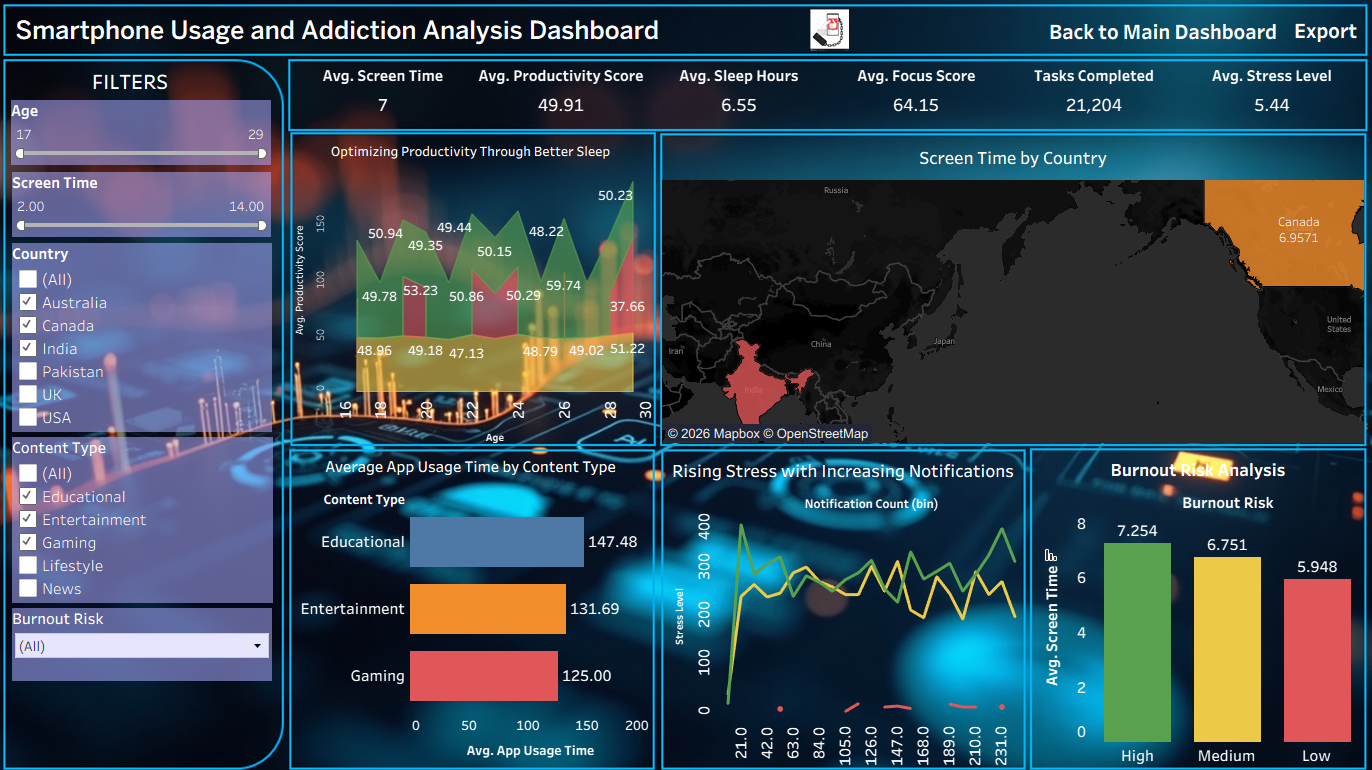

The dashboard page shown, as its layout file describes it:
{"tool":"tableau","page":{"name":"didgital_Addiction_and_productivity_dashboard (2)","canvas":[1400,800],"ordinal":1},"visuals":[{"type":"image","param":"Image/digital_addiction_bg.PNG","box":[8,8,1384,784]},{"type":"image","param":"Image/addiction.png","box":[818,21,52,42]},{"type":"dashboard-object","box":[1053,23,249,40]},{"type":"text","box":[26,27,651,30]},{"type":"worksheet","title":"KPI","mark":"Automatic","box":[308,77,1067,60]},{"type":"text","box":[94,78,100,30]},{"type":"filter","title":"Filters","param":"[federated.1l17ptl0z298e1154kmrq1arx611].[none:Age:qk]","box":[25,112,260,65]},{"type":"worksheet","title":"Optimizing Productivity Through Better Sleep","mark":"Area","rows":["Productivity Score"],"cols":["Age"],"box":[299,150,371,306]},{"type":"worksheet","title":"Screen Time by Country","mark":"Multipolygon","box":[676,153,702,302]},{"type":"filter","title":"Filters","param":"[federated.1l17ptl0z298e1154kmrq1arx611].[none:Screen Time:qk]","box":[26,184,259,65]},{"type":"filter","title":"Filters","param":"[federated.1l17ptl0z298e1154kmrq1arx611].[none:Country:nk]","box":[26,255,260,189]},{"type":"filter","title":"Filters","param":"[federated.1l17ptl0z298e1154kmrq1arx611].[none:Content Type:nk]","box":[26,449,261,166]},{"type":"worksheet","title":"Average App Usage Time by Content Type","mark":"Automatic","rows":["Content Type"],"cols":["App Usage Time"],"box":[304,464,361,314]},{"type":"worksheet","title":"Rising Stress with Increasing Notifications","mark":"Line","rows":["Stress Level"],"cols":["Notification Count (bin)"],"box":[679,466,356,313]},{"type":"worksheet","title":"Burnout Risk Analysis","mark":"Automatic","rows":["Screen Time"],"cols":["Burnout Risk"],"box":[1048,466,328,313]},{"type":"filter","title":"Filters","param":"[federated.1l17ptl0z298e1154kmrq1arx611].[none:Burnout Risk:nk]","box":[26,620,260,73]},{"type":"worksheet","title":"Filters","mark":"Automatic","box":[822,662,60,24]}]}

Visuals, with their boxes in screenshot pixels (x1, y1, x2, y2), scaled from the page's 1400x800 canvas onto the 1372x770 screenshot:
image: 8, 8, 1364, 762
image: 802, 20, 853, 61
dashboard-object: 1032, 22, 1276, 61
text: 25, 26, 663, 55
"KPI" worksheet: 302, 74, 1348, 132
text: 92, 75, 190, 104
"Filters" filter: 24, 108, 279, 170
"Optimizing Productivity Through Better Sleep" worksheet (Area marks): 293, 144, 657, 439
"Screen Time by Country" worksheet (Multipolygon marks): 662, 147, 1350, 438
"Filters" filter: 25, 177, 279, 240
"Filters" filter: 25, 245, 280, 427
"Filters" filter: 25, 432, 281, 592
"Average App Usage Time by Content Type" worksheet: 298, 447, 652, 749
"Rising Stress with Increasing Notifications" worksheet (Line marks): 665, 449, 1014, 750
"Burnout Risk Analysis" worksheet: 1027, 449, 1348, 750
"Filters" filter: 25, 597, 280, 667
"Filters" worksheet: 806, 637, 864, 660
